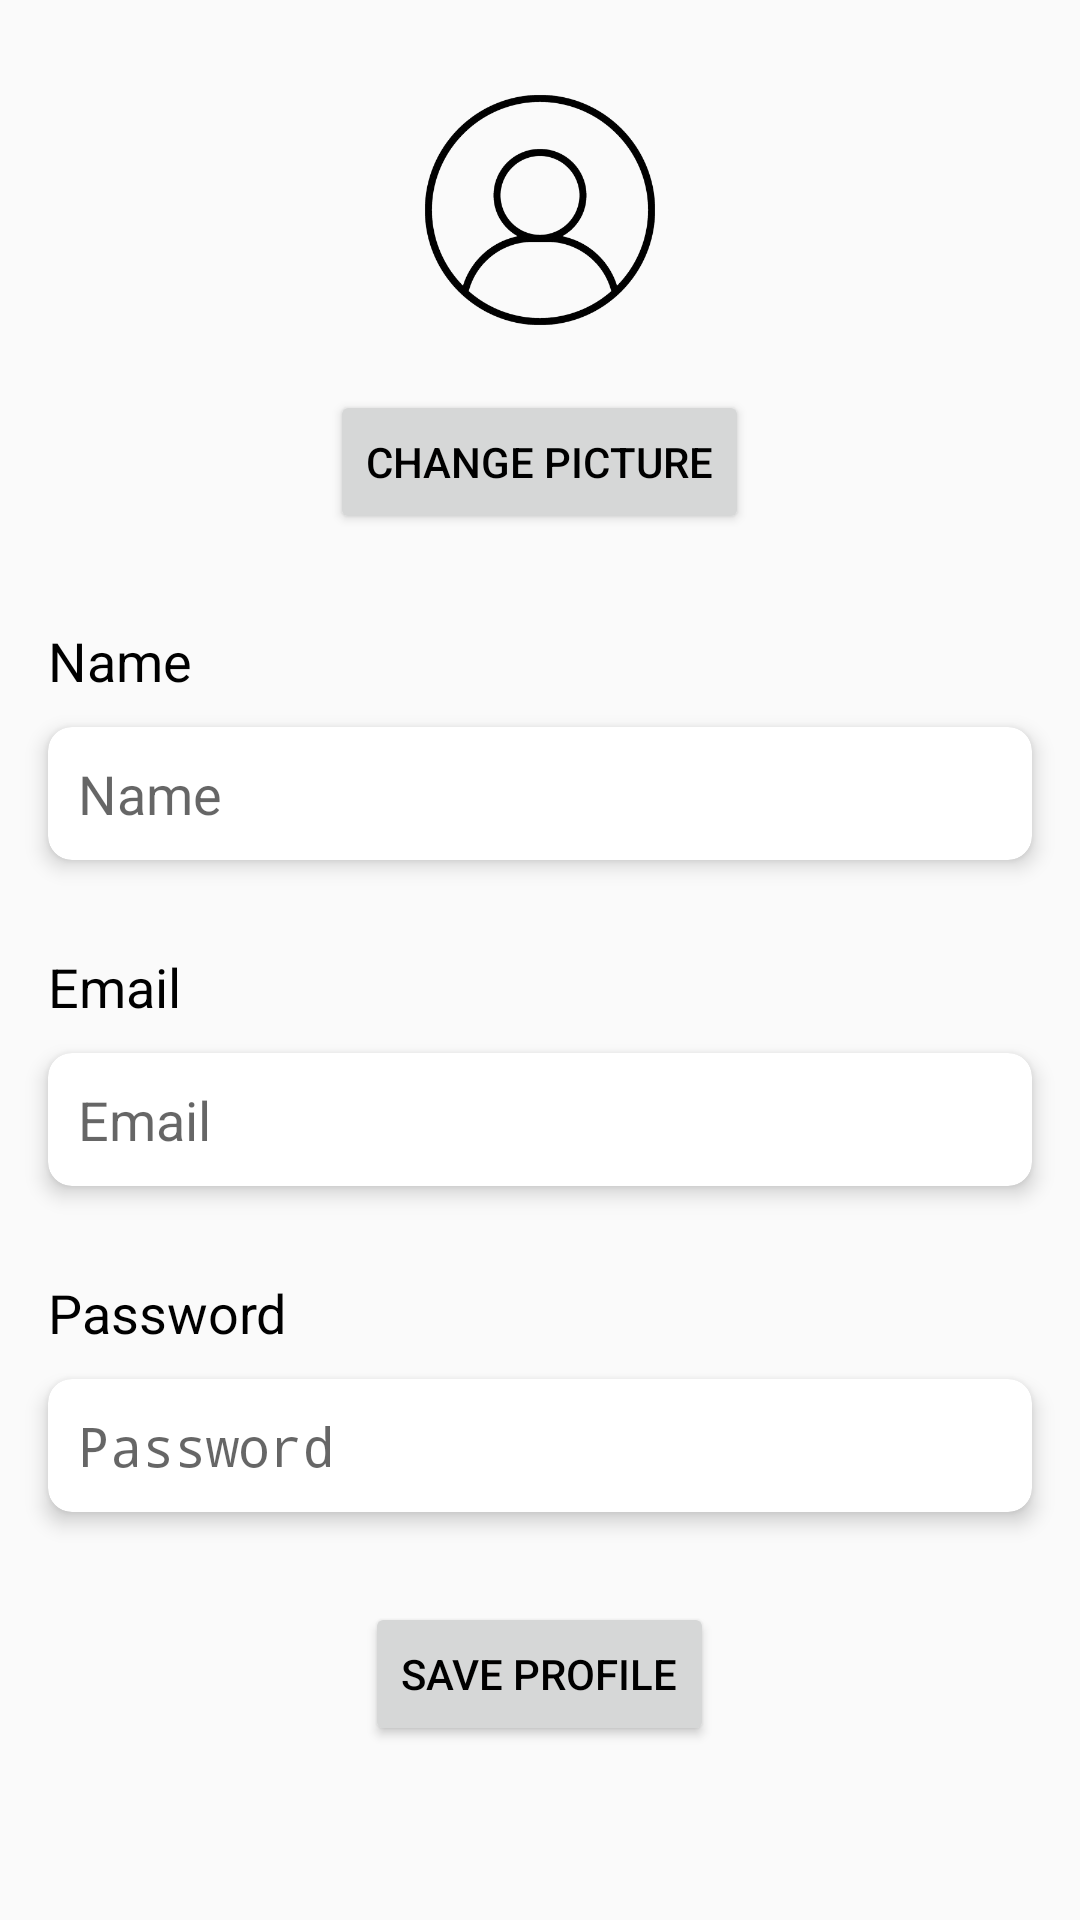

Point at icon controls on the screen. Image size 1080px x 1920px, points as point (x, y).
profile: point (540, 210)
